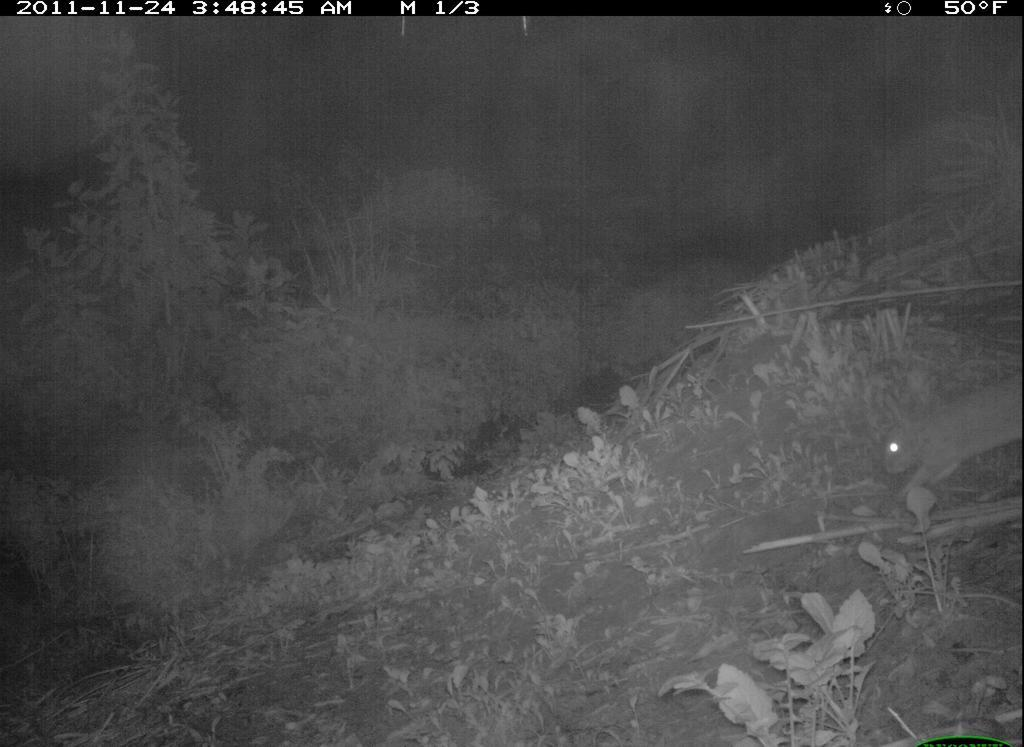rabbit: (871, 373, 1021, 507)
